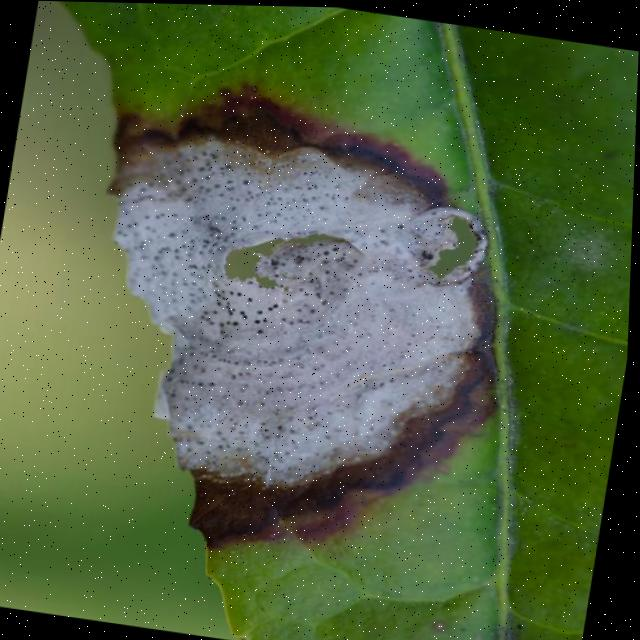Tea cloud leaf blight: (93, 74, 548, 591)
